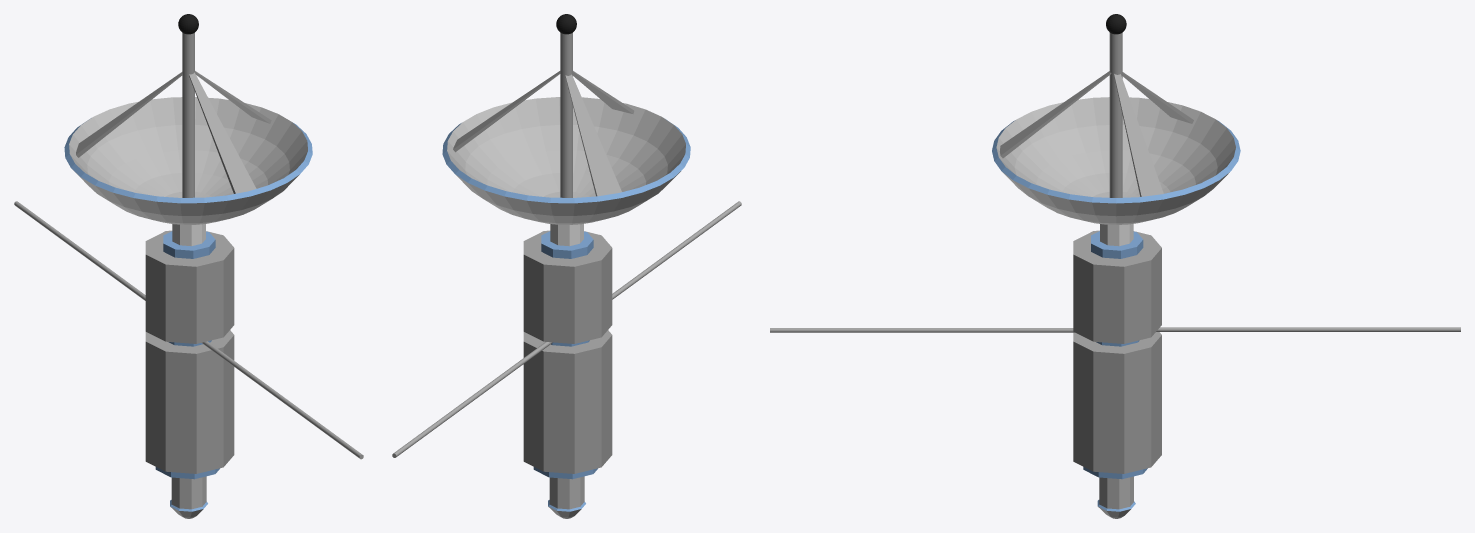
The model's file is remas.gltf.
The picture shows the model from 3 angles, left to right: view 1: azimuth 30°, elevation 25°; view 2: azimuth 150°, elevation 25°; view 3: azimuth 270°, elevation 25°; orthographic projection.
Visible parts, largest first — view 1: Cylinder.001; view 2: Cylinder.001; view 3: Cylinder.001.
Boxes of the visible parts, x1=… form: Cylinder.001: x1=14, y1=14, x2=363, y2=518; Cylinder.001: x1=392, y1=14, x2=741, y2=518; Cylinder.001: x1=770, y1=14, x2=1460, y2=518.
Size of the model in its own units: 1.66 by 3.7 by 4.62.
